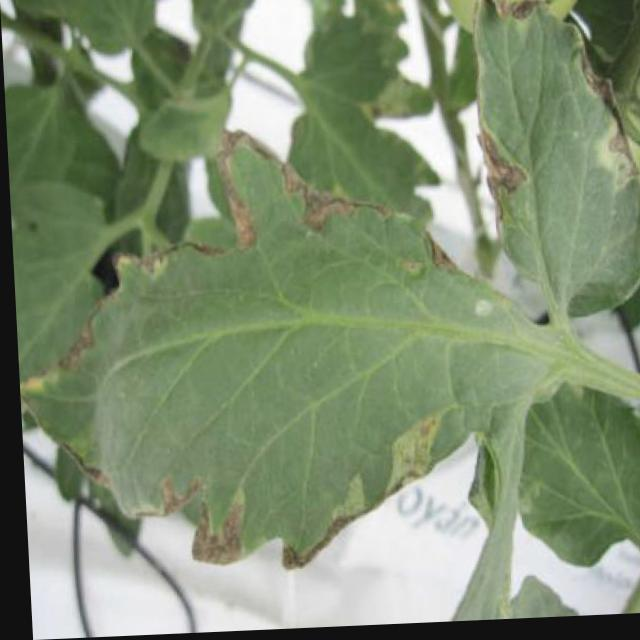Tomato late blight leaf: (11, 124, 536, 586), (457, 0, 639, 358)
